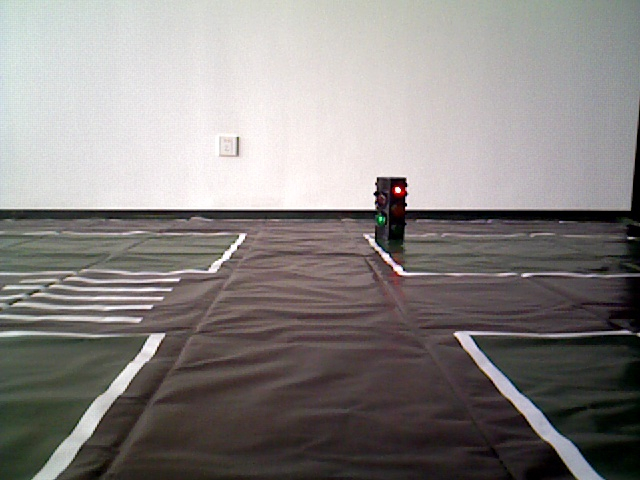red: (376, 176, 405, 250)
